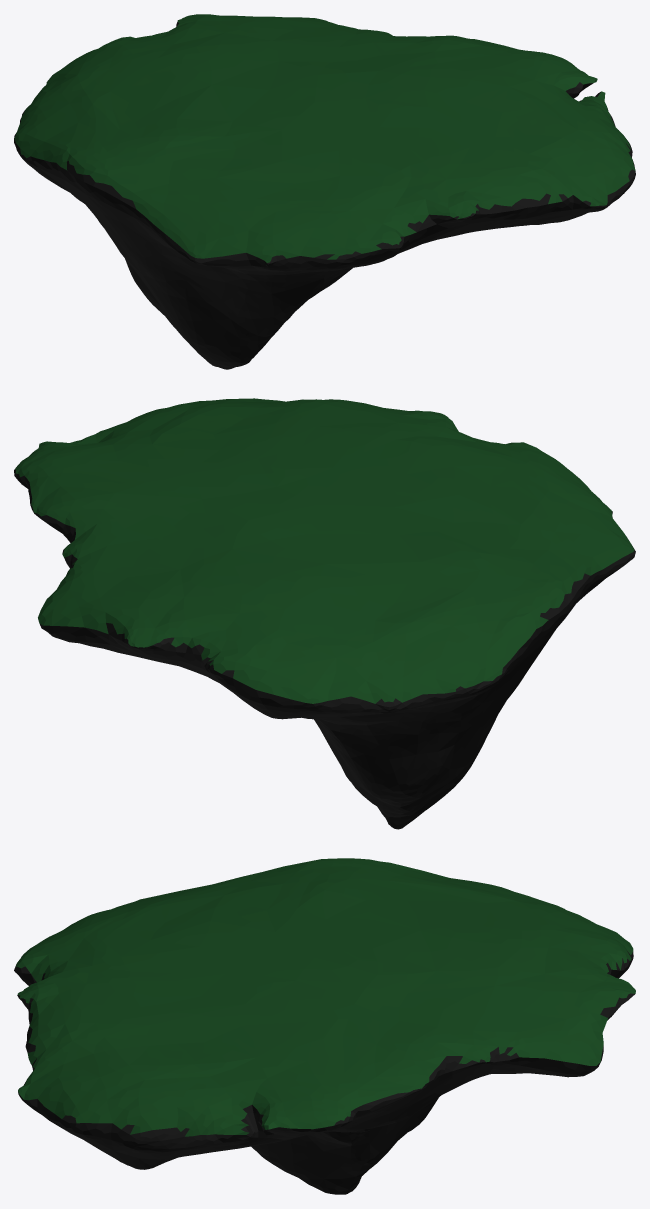
Rendered from Island 01.obj.
The picture shows the model from 3 angles, top to bottom: view 1: azimuth 30°, elevation 25°; view 2: azimuth 150°, elevation 25°; view 3: azimuth 270°, elevation 25°; orthographic projection. The views are drawn at different scales.
Parts seen in each view (by area): view 1: Island_01; view 2: Island_01; view 3: Island_01.
Part boxes in pixels (x1,y1,x2,y2): Island_01: [14, 14, 635, 369]; Island_01: [14, 398, 635, 829]; Island_01: [14, 858, 635, 1194].
Size of the model in its own units: 47.48 by 23.45 by 46.6.
